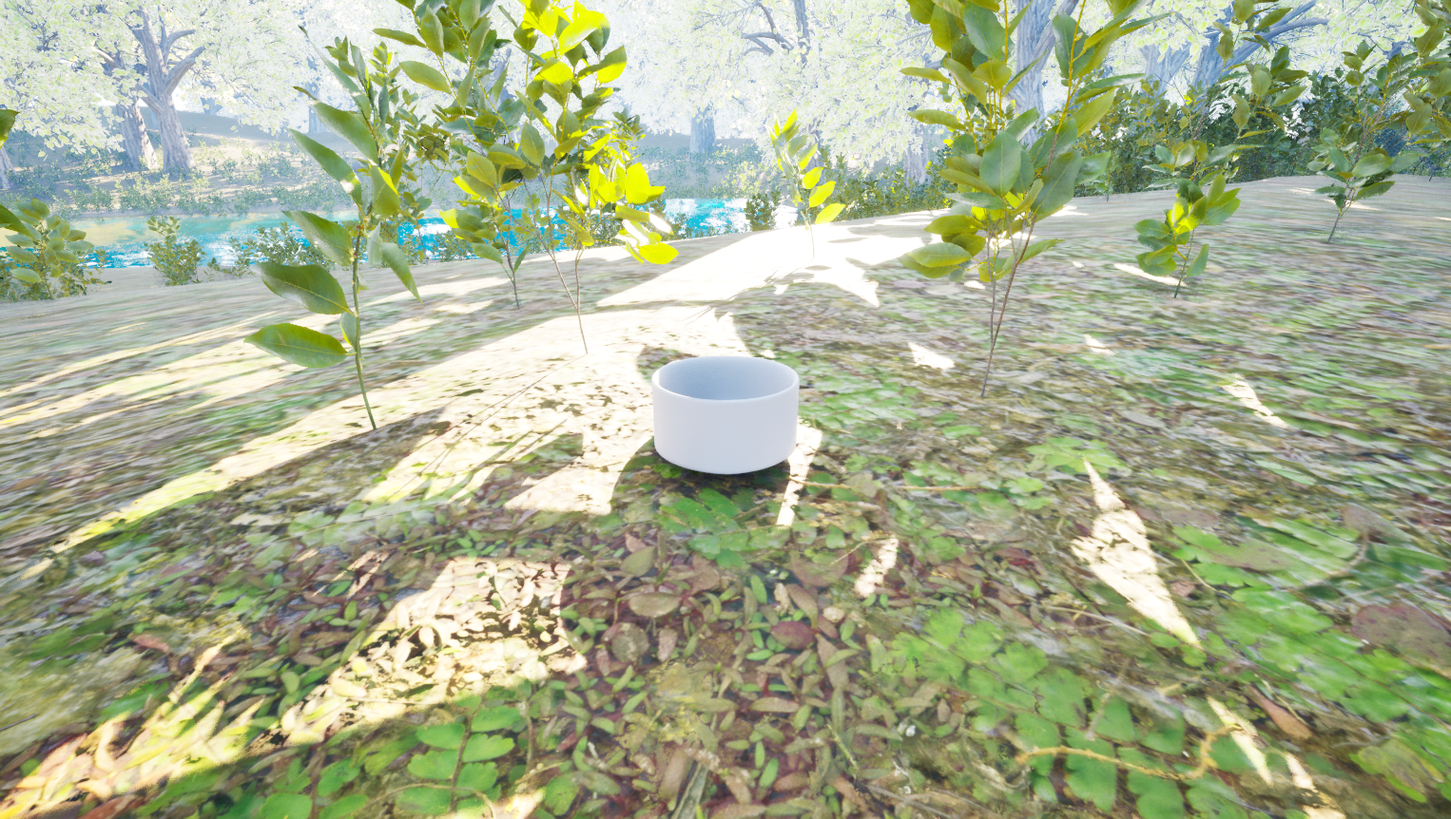Teacup: (646, 348, 812, 477)
